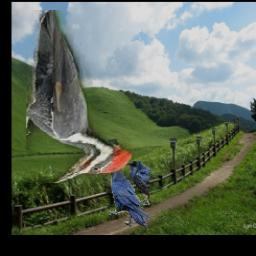Crow: (101, 161, 150, 227)
Woodpecker: (27, 10, 133, 183)
